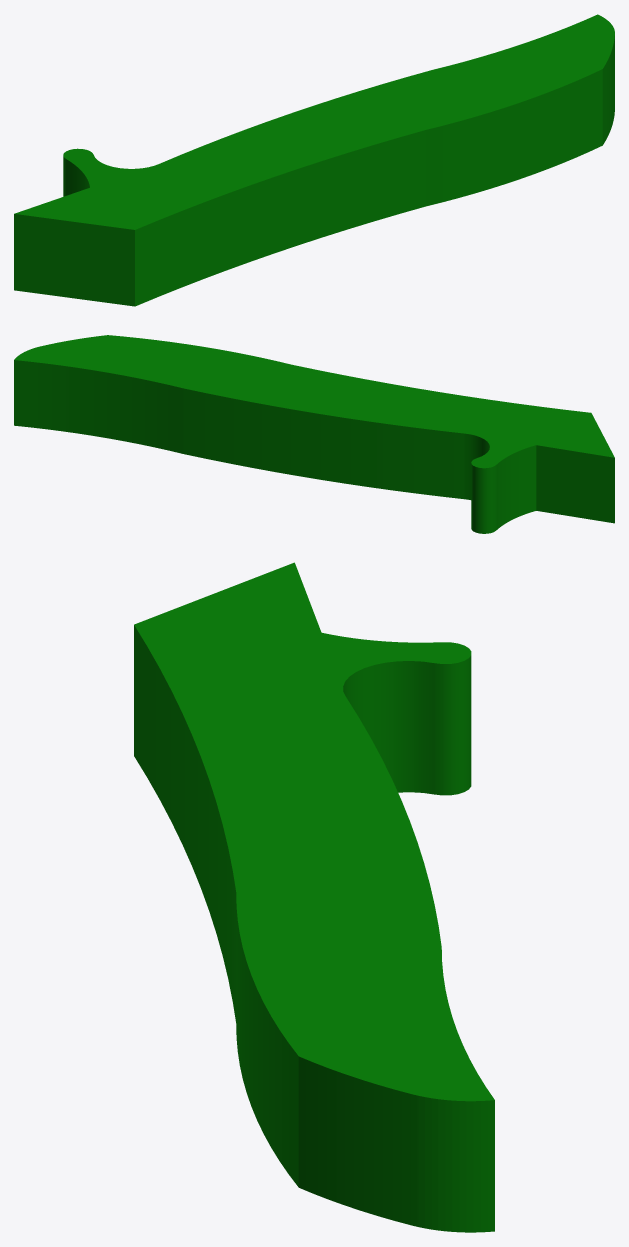
Rendered from original-1.obj.
3 views of the same model, one above another, from view 1: azimuth 30°, elevation 25°; view 2: azimuth 150°, elevation 25°; view 3: azimuth 270°, elevation 25° (orthographic). The views are drawn at different scales.
Parts seen in each view (by area): view 1: Group1/mesh1/mesh1-geometry#mesh1-geometry; view 2: Group1/mesh1/mesh1-geometry#mesh1-geometry; view 3: Group1/mesh1/mesh1-geometry#mesh1-geometry.
Boxes of the visible parts, box(x1,y1,x2,y2) form: Group1/mesh1/mesh1-geometry#mesh1-geometry: box(14, 14, 614, 306); Group1/mesh1/mesh1-geometry#mesh1-geometry: box(14, 335, 614, 533); Group1/mesh1/mesh1-geometry#mesh1-geometry: box(134, 562, 494, 1232).
Bounding box in the file's own units: 0.8789 × 0.0999 × 0.2489.
